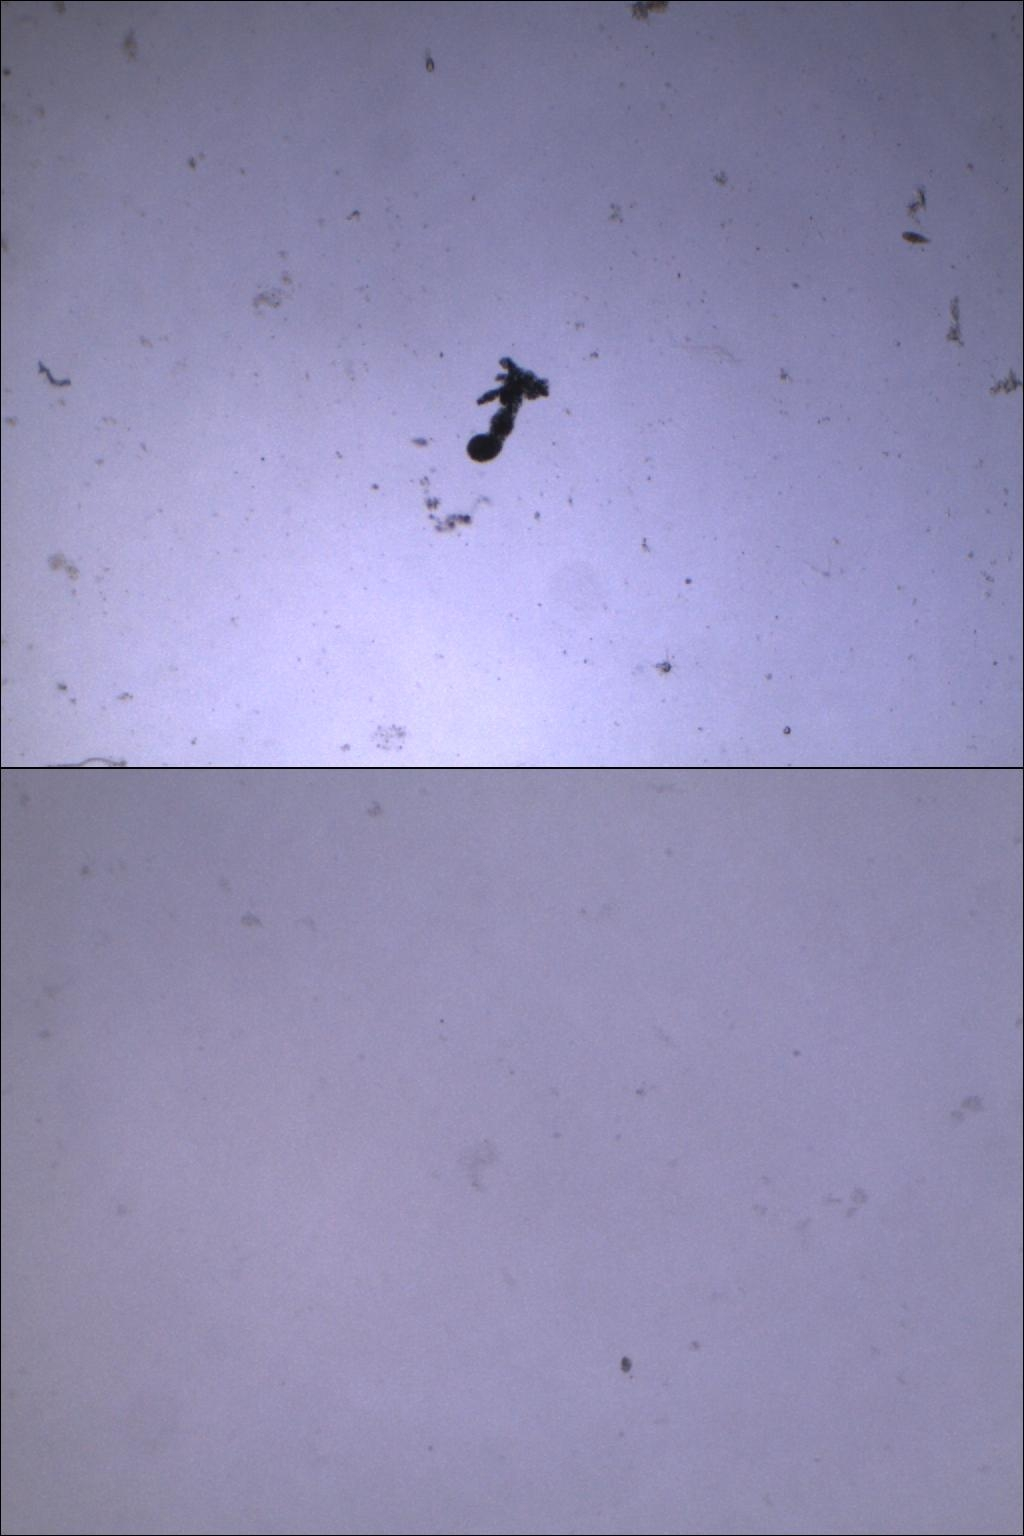N.Fowleri Amoeba: (430, 1109, 527, 1216)
Proteus Amoeba: (456, 346, 571, 470)
